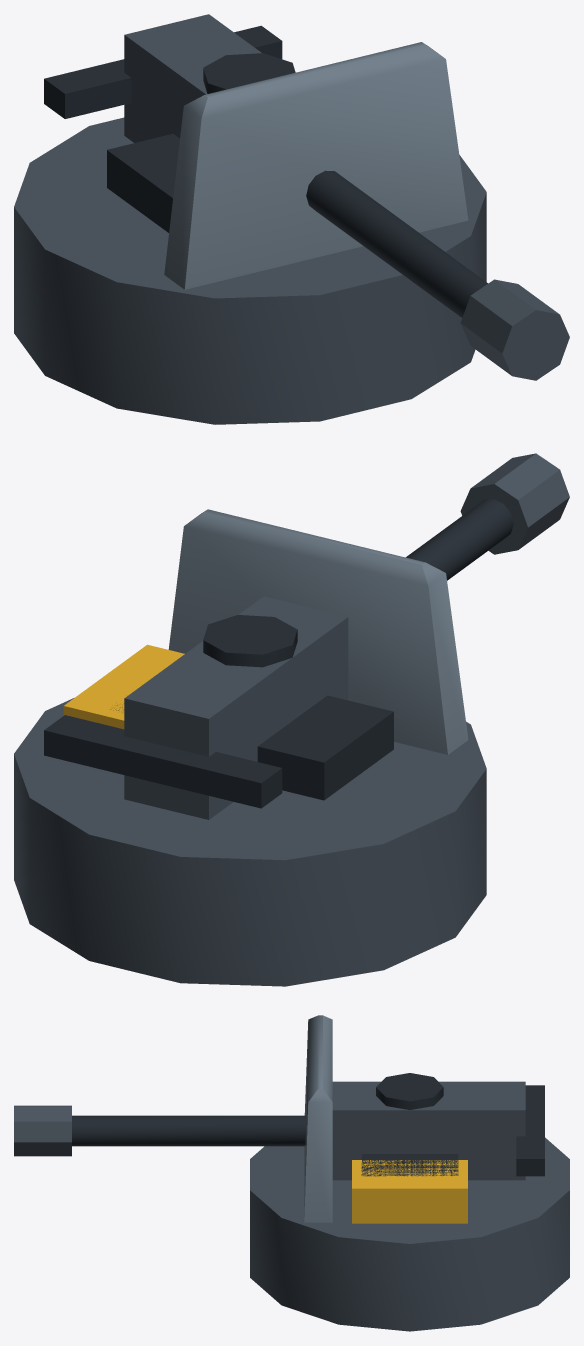
The model's file is arena_weapon_mg.glb.
3 renders of one model, top to bottom at view 1: azimuth 30°, elevation 25°; view 2: azimuth 150°, elevation 25°; view 3: azimuth 270°, elevation 25°, orthographic. The views are drawn at different scales.
Visible parts, largest first — view 1: base, shield, receiver, barrel_0_tube, flash_hider, fork, grips, pintle; view 2: base, shield, receiver, grips, fork, flash_hider, barrel_0_tube, pintle, ammo_box; view 3: base, receiver, barrel_0_tube, ammo_box, shield, flash_hider, grips, fork, pintle.
Boxes of the visible parts, x1,y1,x2,y2 form: base: (14,117,486,424); shield: (164,42,468,289); receiver: (124,14,261,142); barrel_0_tube: (306,170,487,317); flash_hider: (460,279,569,380); fork: (107,134,179,232); grips: (44,25,282,118); pintle: (203,53,295,93); base: (14,698,486,986); shield: (168,509,468,754); receiver: (124,596,348,819); grips: (44,715,282,808); fork: (110,695,393,800); flash_hider: (460,453,569,554); barrel_0_tube: (406,499,513,580); pintle: (203,615,297,667); ammo_box: (63,644,184,729); base: (250,1137,569,1331); receiver: (332,1081,525,1180); barrel_0_tube: (72,1115,306,1146); ammo_box: (352,1160,467,1223); shield: (304,1015,332,1222); flash_hider: (14,1105,71,1156); grips: (516,1085,544,1176); fork: (361,1154,458,1176); pintle: (376,1073,443,1109).
Size of the model in its own units: 3.4 by 2.4 by 5.76.
